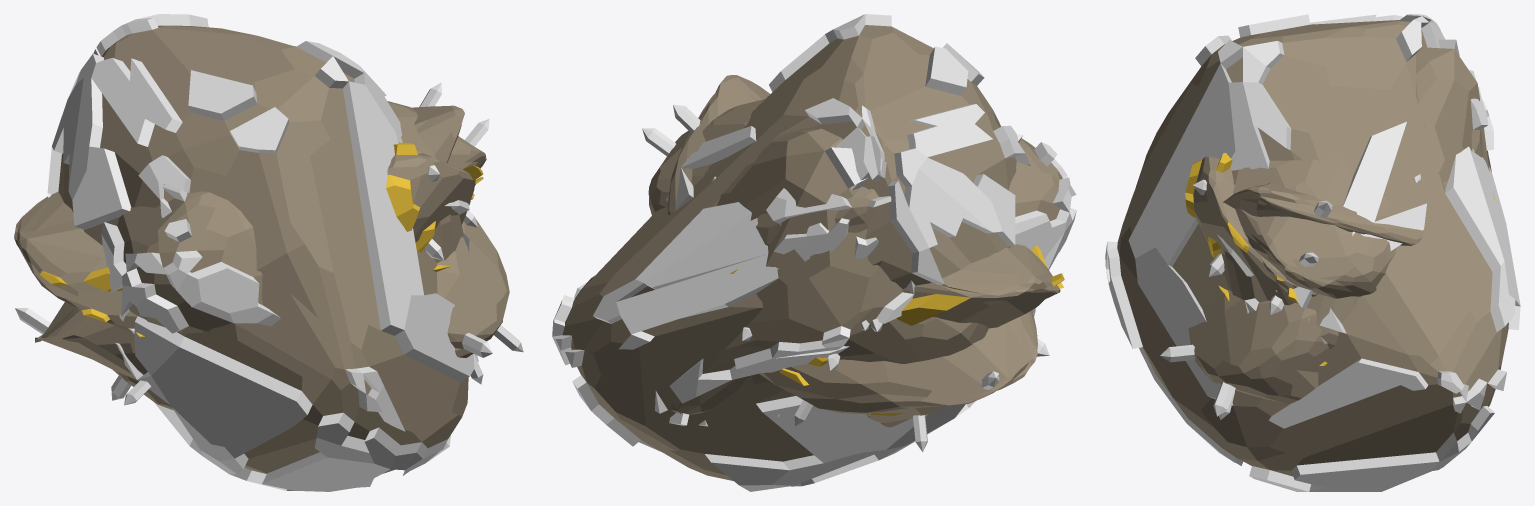
File: Astroid.fbx
3 renders of one model, left to right at view 1: azimuth 30°, elevation 25°; view 2: azimuth 150°, elevation 25°; view 3: azimuth 270°, elevation 25°, orthographic. The views are drawn at different scales.
Visible parts, largest first — view 1: SilverAstroid, SilverAstroid.001, GoldAstroid.004, RubyAstroid, RubyAstroid.001, RubyAstroid.003, GoldAstroid.002; view 2: SilverAstroid, SilverAstroid.001, RubyAstroid.001, GoldAstroid.004, SilverAstroid.003, GoldAstroid.001, RubyAstroid.003; view 3: SilverAstroid, SilverAstroid.001, RubyAstroid.001, RubyAstroid, GoldAstroid.004, RubyAstroid.003, SilverAstroid.003, GoldAstroid.002, RubyAstroid|RubyParticle|Dupli|8, RubyAstroid|RubyParticle|Dupli|17.
Part boxes in pixels (x1=…): SilverAstroid: x1=47, y1=14, x2=478, y2=491; SilverAstroid.001: x1=101, y1=184, x2=469, y2=333; GoldAstroid.004: x1=14, y1=142, x2=483, y2=338; RubyAstroid: x1=437, y1=219, x2=509, y2=357; RubyAstroid.001: x1=35, y1=101, x2=486, y2=380; RubyAstroid.003: x1=411, y1=105, x2=464, y2=163; GoldAstroid.002: x1=112, y1=177, x2=483, y2=410; SilverAstroid: x1=552, y1=14, x2=1035, y2=491; SilverAstroid.001: x1=655, y1=126, x2=1076, y2=426; RubyAstroid.001: x1=648, y1=99, x2=1037, y2=427; GoldAstroid.004: x1=896, y1=244, x2=1064, y2=328; SilverAstroid.003: x1=717, y1=186, x2=891, y2=261; GoldAstroid.001: x1=729, y1=269, x2=988, y2=366; RubyAstroid.003: x1=667, y1=75, x2=770, y2=214; SilverAstroid: x1=1105, y1=14, x2=1520, y2=491; SilverAstroid.001: x1=1217, y1=39, x2=1491, y2=348; RubyAstroid.001: x1=1231, y1=158, x2=1396, y2=298; RubyAstroid: x1=1188, y1=290, x2=1329, y2=403; GoldAstroid.004: x1=1185, y1=153, x2=1295, y2=305; RubyAstroid.003: x1=1223, y1=182, x2=1423, y2=245; SilverAstroid.003: x1=1443, y1=70, x2=1493, y2=186; GoldAstroid.002: x1=1207, y1=236, x2=1317, y2=303; RubyAstroid|RubyParticle|Dupli|8: x1=1160, y1=344, x2=1195, y2=362; RubyAstroid|RubyParticle|Dupli|17: x1=1213, y1=382, x2=1235, y2=416.
Bounding box in the file's own units: 72.64 × 70.16 × 63.85.
